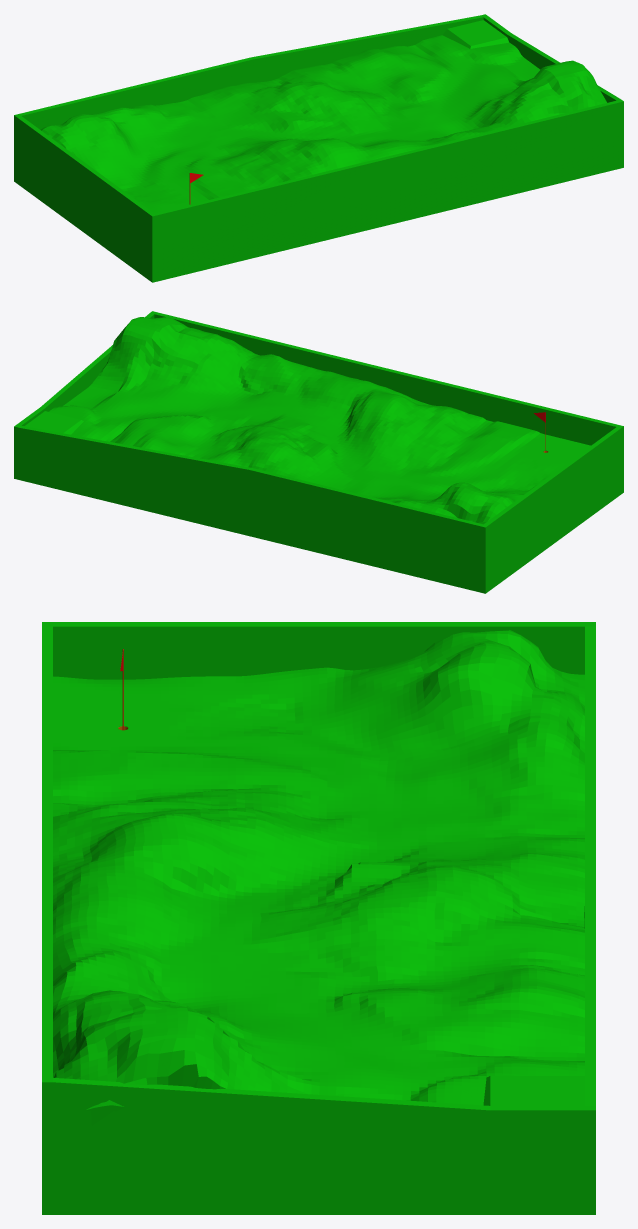
Rendered from level_4.glb.
The picture shows the model from 3 angles, top to bottom: view 1: azimuth 30°, elevation 25°; view 2: azimuth 150°, elevation 25°; view 3: azimuth 270°, elevation 25°; orthographic projection. The views are drawn at different scales.
Parts seen in each view (by area): view 1: green; view 2: green; view 3: green.
Boxes of the visible parts, x1,y1,x2,y2 form: green: (14, 14, 623, 282); green: (14, 311, 623, 593); green: (42, 622, 595, 1214).
Bounding box in the file's own units: 10.21 × 1.71 × 5.17.
